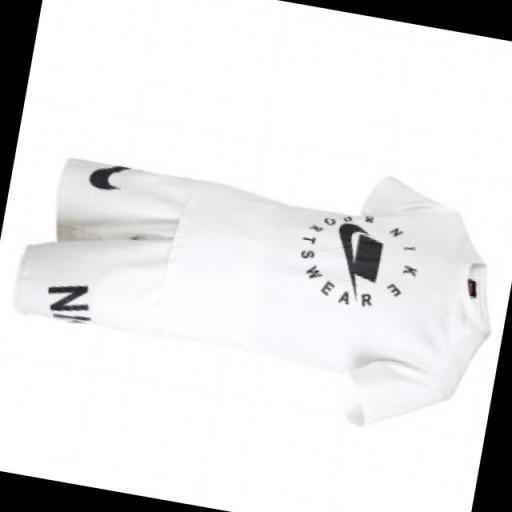Nike: (323, 216, 374, 303)
